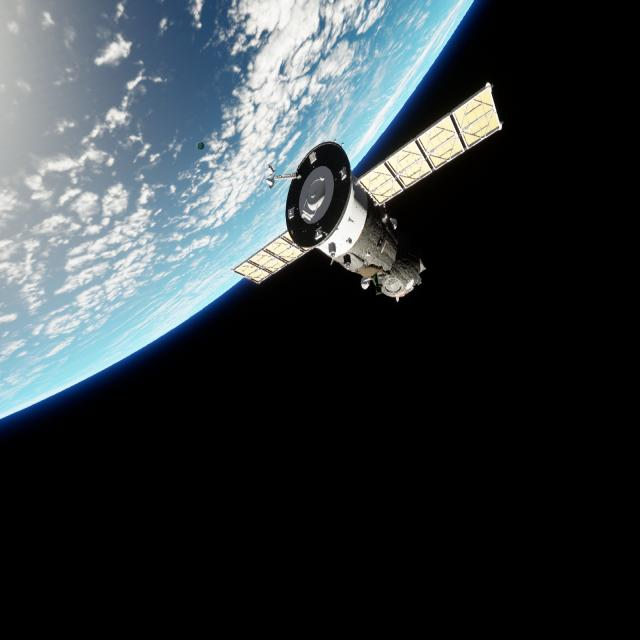Satellites revolving around earth: (231, 138, 427, 304)
